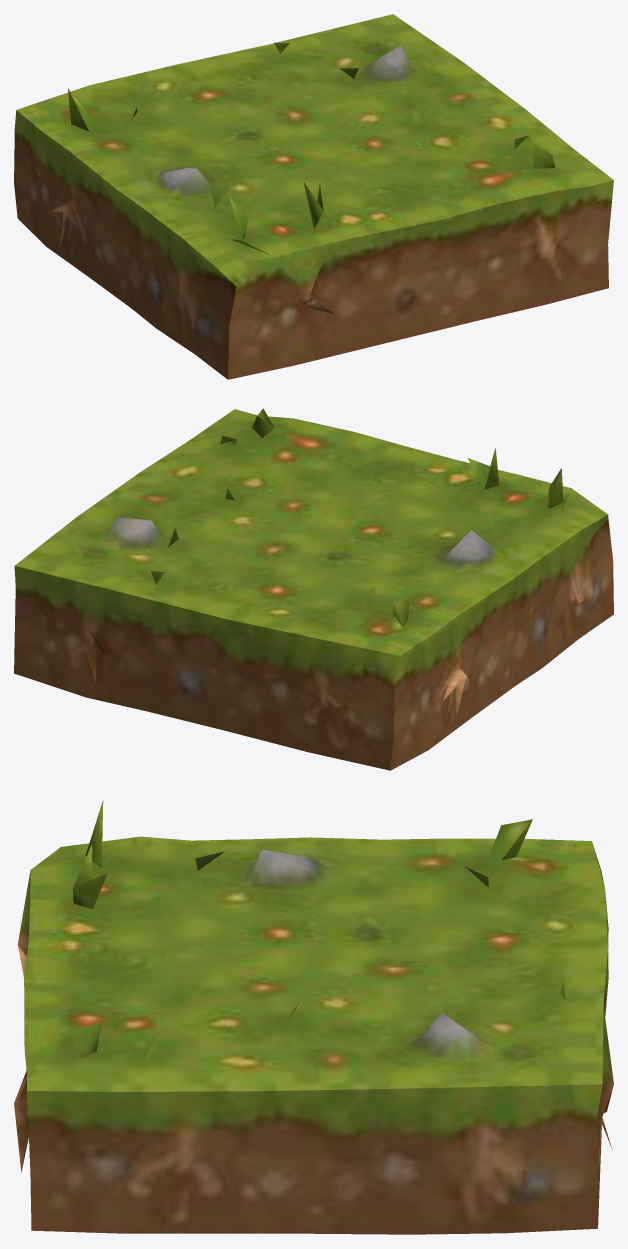
Rendered from b_racines_sol_2.glb.
3 views of the same model, one above another, from view 1: azimuth 30°, elevation 25°; view 2: azimuth 150°, elevation 25°; view 3: azimuth 270°, elevation 25° (orthographic). The views are drawn at different scales.
Parts seen in each view (by area): view 1: geometry_0; view 2: geometry_0; view 3: geometry_0.
Part boxes in pixels (bbox=[...]): geometry_0: bbox=[14, 14, 613, 379]; geometry_0: bbox=[14, 408, 613, 770]; geometry_0: bbox=[14, 800, 613, 1234].
Size of the model in its own units: 1 by 0.3863 by 1.
1 material, 1 textured.
